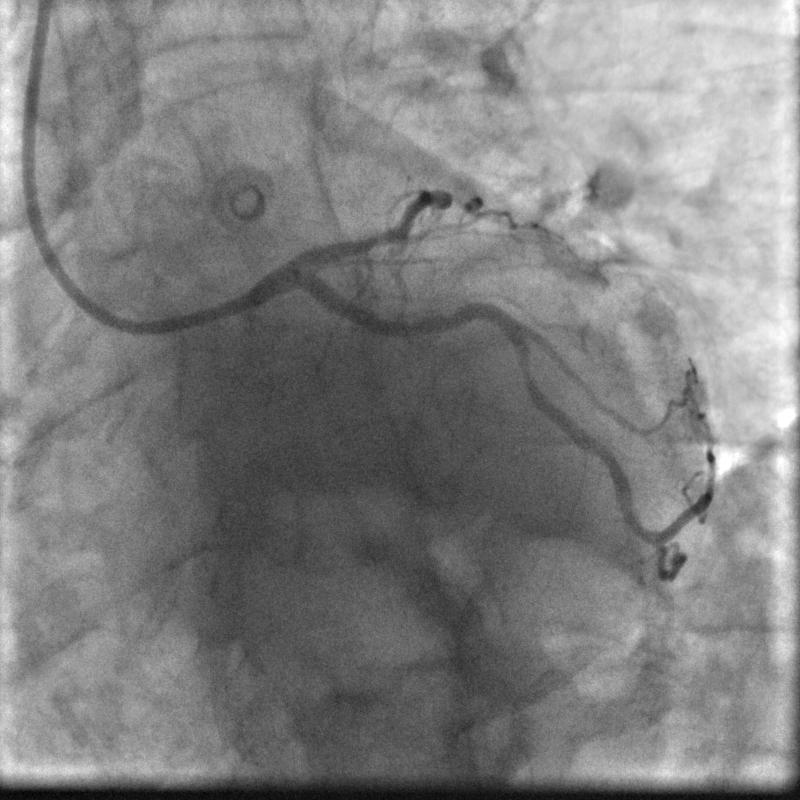Stenosis: (519, 357, 534, 380)
